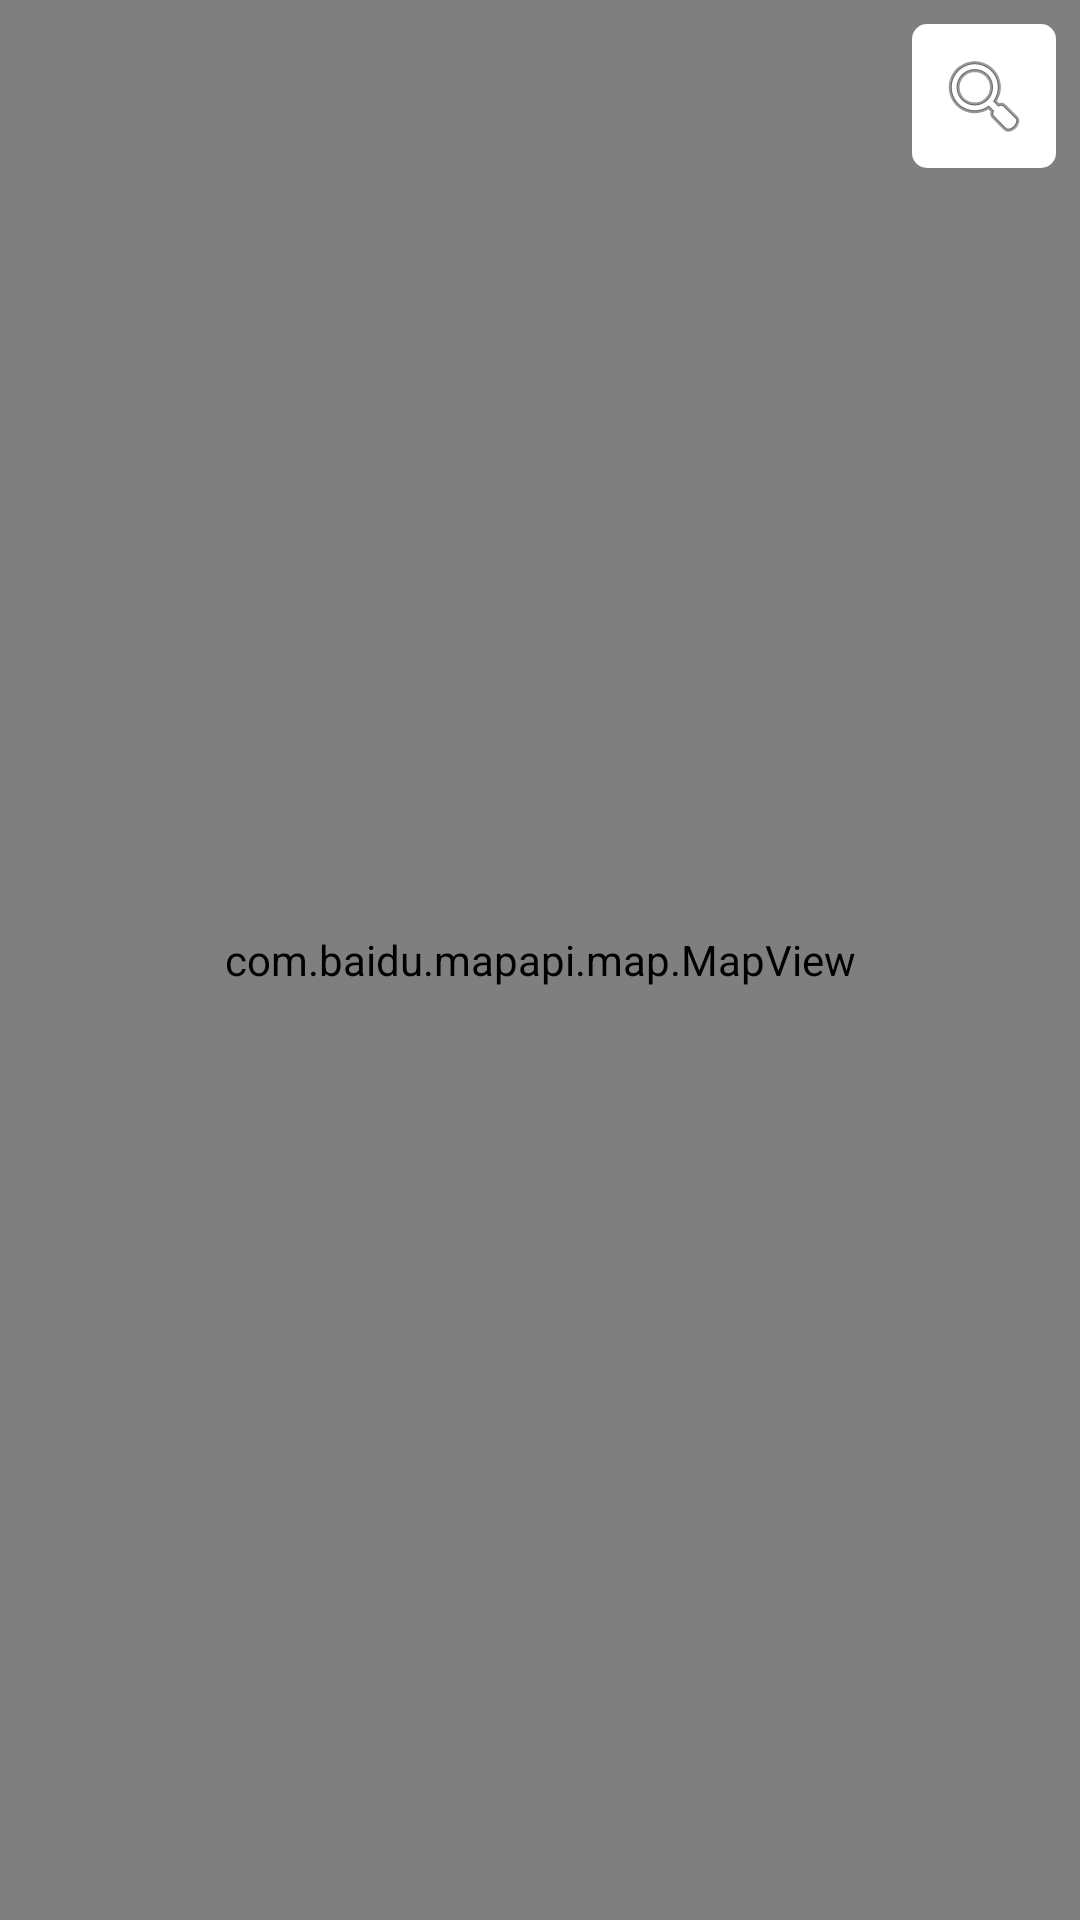

Locate icon controls on the screen. Image size 1080x1920, boxes as box(x1, y1, x2, y2).
search: box(912, 24, 1056, 168)
